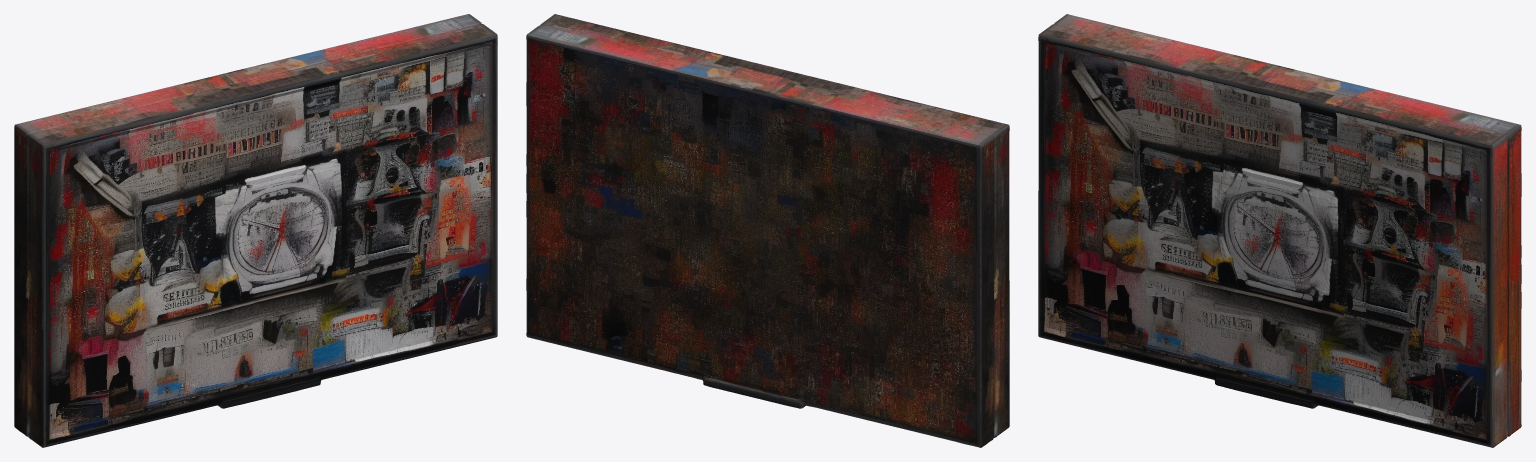
The model's file is tail (76).glb.
3 renders of one model, left to right at view 1: azimuth 30°, elevation 25°; view 2: azimuth 150°, elevation 25°; view 3: azimuth 330°, elevation 25°, orthographic.
Parts seen in each view (by area): view 1: Hy21_Mesh.obj; view 2: Hy21_Mesh.obj; view 3: Hy21_Mesh.obj.
Part boxes in pixels (x1,y1,x2,y2): Hy21_Mesh.obj: [14, 14, 497, 447]; Hy21_Mesh.obj: [526, 14, 1009, 447]; Hy21_Mesh.obj: [1038, 14, 1521, 447].
Size of the model in its own units: 1.96 by 1.26 by 0.239.
1 material, 1 textured.
